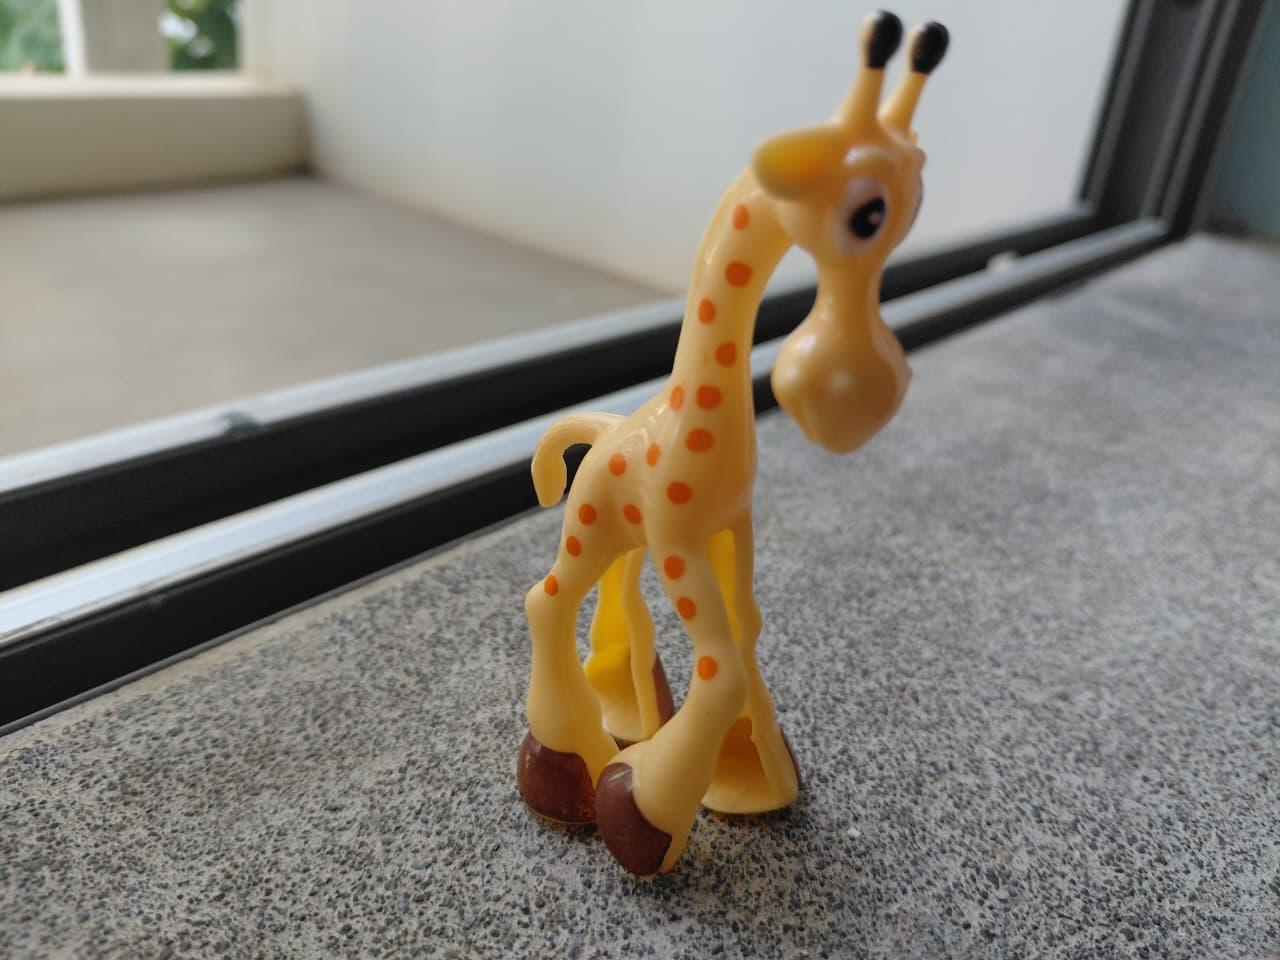giraffe: (492, 13, 965, 882)
